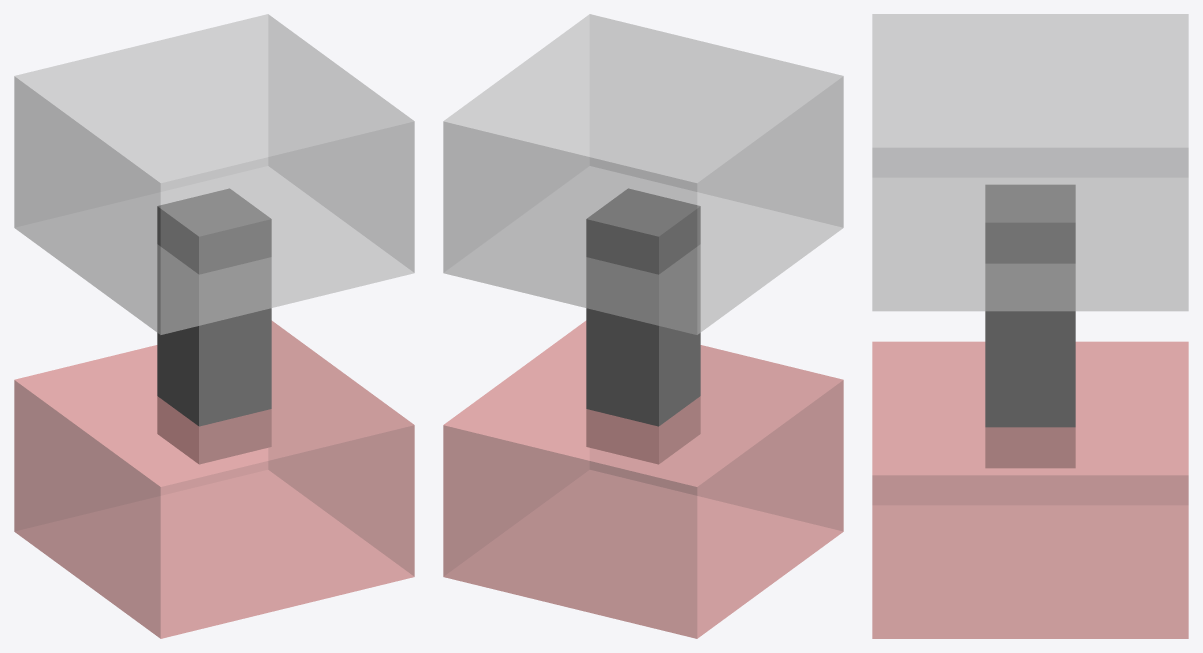
File: board.glb
3 renders of one model, left to right at view 1: azimuth 30°, elevation 25°; view 2: azimuth 150°, elevation 25°; view 3: azimuth 270°, elevation 25°, orthographic. The views are drawn at different scales.
Visible parts, largest first — view 1: Copper_Net1_Contour0 (×3); view 2: Copper_Net1_Contour0 (×3); view 3: Copper_Net1_Contour0 (×3).
Boxes of the visible parts, x1,y1,x2,y2 form: Copper_Net1_Contour0 (×3): (14, 14, 414, 638); Copper_Net1_Contour0 (×3): (443, 14, 843, 638); Copper_Net1_Contour0 (×3): (872, 14, 1188, 638).
Size of the model in its own units: 7e-07 by 1.2e-06 by 7e-07.
